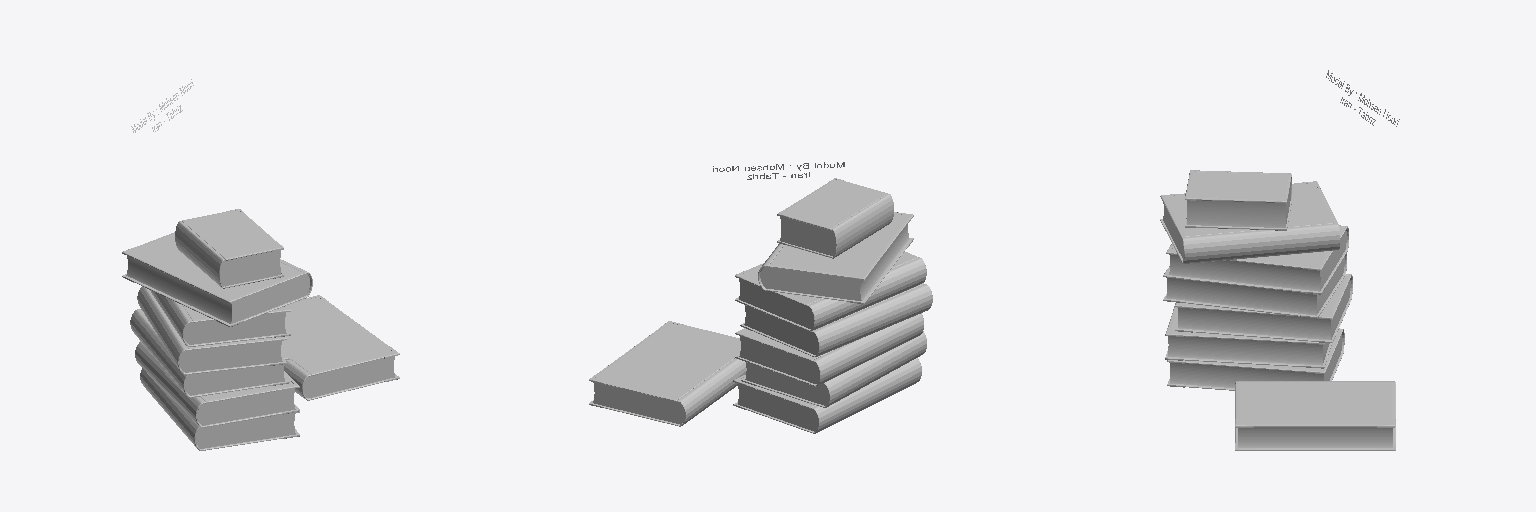
File: Book3.obj
The picture shows the model from 3 angles: view 1: azimuth 30°, elevation 25°; view 2: azimuth 150°, elevation 25°; view 3: azimuth 270°, elevation 25°; orthographic projection.
Parts seen in each view (by area): view 1: Line043, Line044, Line034, Line032, Line008, Line022, Line002, Line010, Line028, Line038, Line016, Line020 (+4 smaller); view 2: Line043, Line044, Line032, Line020, Line014, Line026, Line034, Line001, Line008, Line038, Line002, Line016 (+4 smaller); view 3: Line043, Line032, Line016, Line022, Line028, Line010, Line044, Line038, Line002, Line046, Line026, Line014 (+2 smaller).
Part boxes in pixels (bbox=[...]): Line043: bbox=[281, 297, 396, 400]; Line044: bbox=[175, 210, 282, 288]; Line034: bbox=[126, 256, 309, 323]; Line032: bbox=[125, 232, 312, 324]; Line008: bbox=[135, 341, 297, 427]; Line022: bbox=[179, 341, 282, 372]; Line002: bbox=[196, 413, 295, 448]; Line010: bbox=[197, 389, 295, 425]; Line028: bbox=[184, 313, 286, 344]; Line038: bbox=[303, 356, 394, 397]; Line016: bbox=[185, 364, 284, 395]; Line020: bbox=[137, 286, 284, 374]; Line043: bbox=[591, 323, 746, 426]; Line044: bbox=[779, 180, 893, 258]; Line032: bbox=[758, 212, 911, 301]; Line020: bbox=[742, 283, 932, 356]; Line014: bbox=[737, 313, 923, 386]; Line026: bbox=[737, 252, 926, 331]; Line034: bbox=[760, 224, 909, 300]; Line001: bbox=[736, 358, 921, 433]; Line008: bbox=[743, 331, 926, 407]; Line038: bbox=[593, 382, 684, 424]; Line002: bbox=[738, 384, 818, 431]; Line016: bbox=[739, 336, 819, 383]; Line043: bbox=[1235, 381, 1395, 450]; Line032: bbox=[1162, 183, 1340, 263]; Line016: bbox=[1178, 281, 1350, 339]; Line022: bbox=[1166, 257, 1344, 315]; Line028: bbox=[1169, 231, 1346, 291]; Line010: bbox=[1168, 336, 1329, 365]; Line044: bbox=[1186, 170, 1291, 229]; Line038: bbox=[1238, 427, 1392, 447]; Line002: bbox=[1170, 335, 1341, 387]; Line046: bbox=[1187, 183, 1290, 227]; Line026: bbox=[1168, 225, 1348, 292]; Line014: bbox=[1177, 274, 1352, 341].
Size of the model in its own units: 143 by 154 by 122.